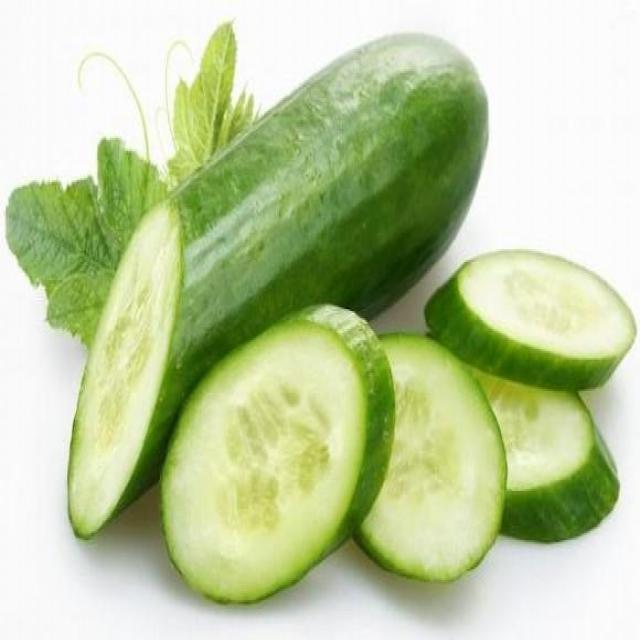cucumber: (111, 51, 639, 640), (132, 286, 404, 636), (266, 307, 508, 609), (408, 158, 640, 441), (386, 291, 634, 547)
